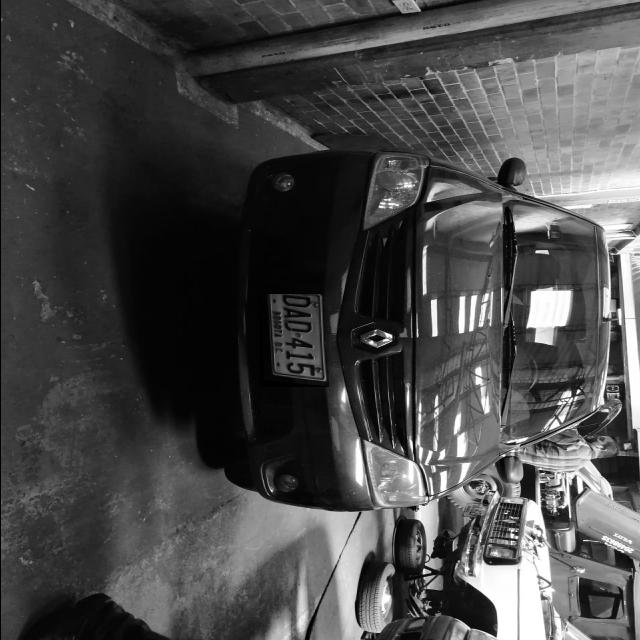plate: (261, 294, 328, 387)
